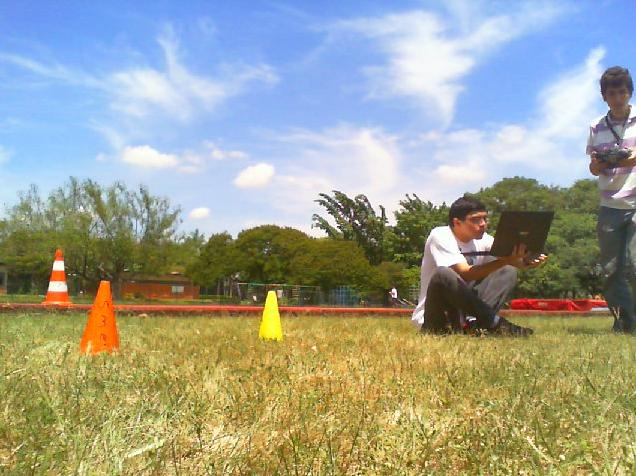0 cone: (81, 281, 119, 356), (41, 249, 73, 304), (259, 290, 283, 338)
